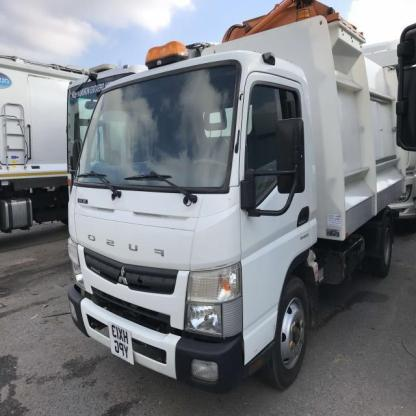truck: (68, 1, 416, 391)
